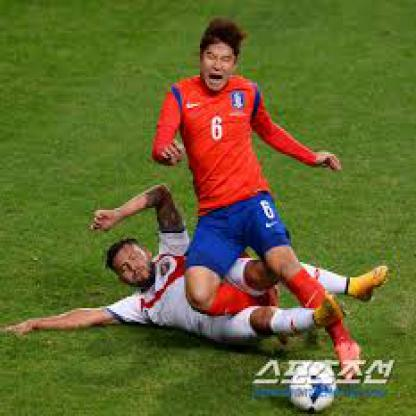Fall_Down: (149, 17, 365, 388)
